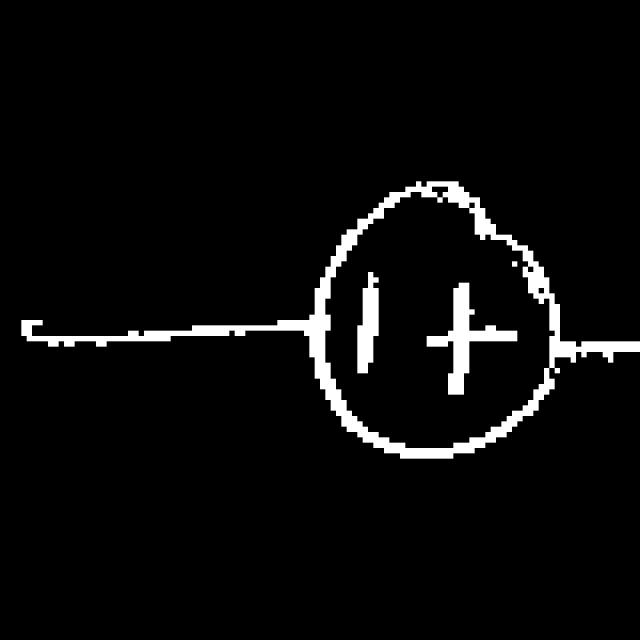voltage_source: (306, 173, 568, 465)
